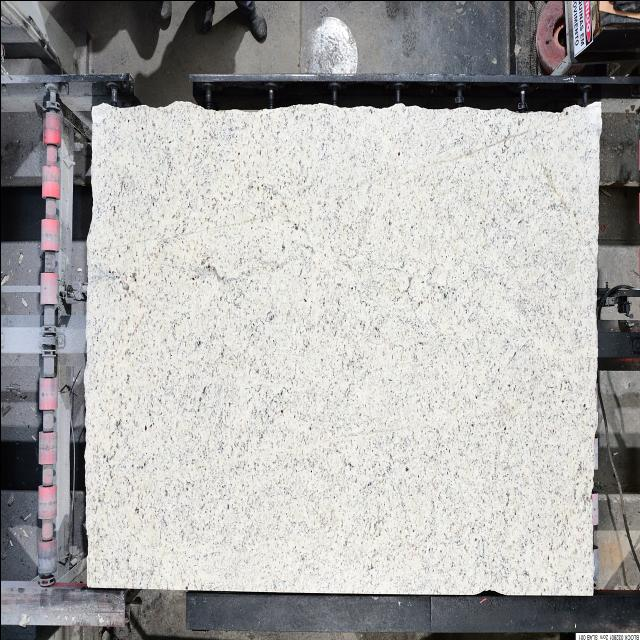chapa: (84, 100, 600, 593)
